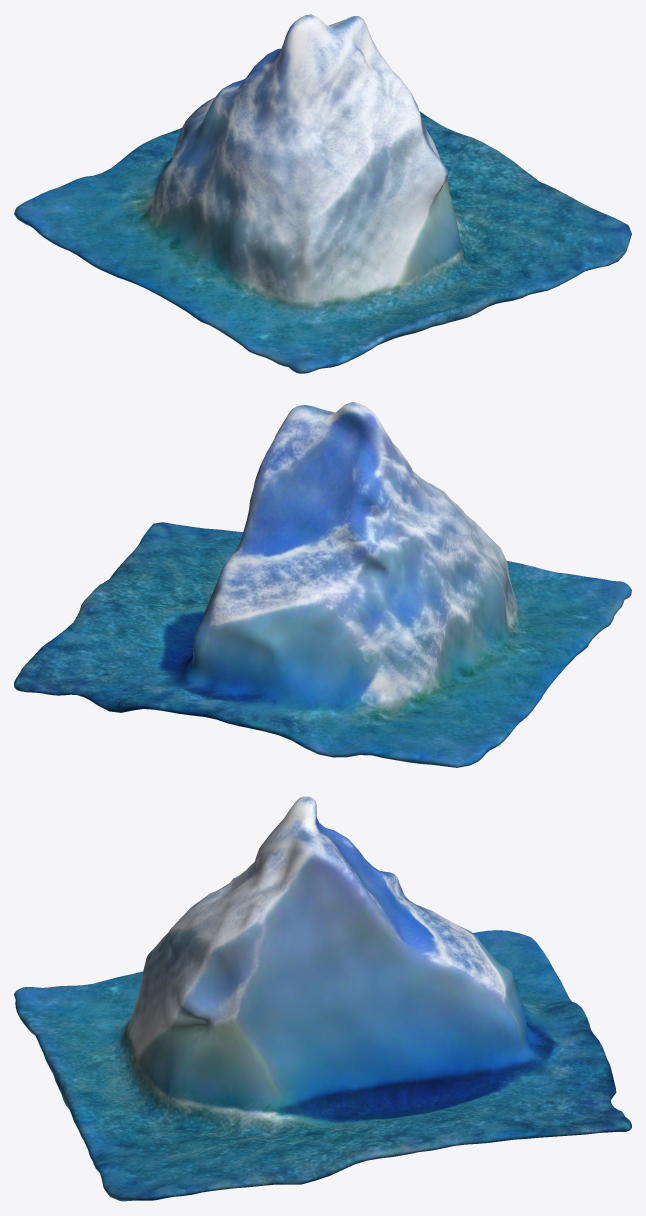
File: Iceberg.fbx
3 renders of one model, top to bottom at view 1: azimuth 30°, elevation 25°; view 2: azimuth 150°, elevation 25°; view 3: azimuth 270°, elevation 25°, orthographic. The views are drawn at different scales.
Visible parts, largest first — view 1: mesh; view 2: mesh; view 3: mesh.
Part boxes in pixels (left/top/right/bottom): mesh: left=14, top=14, right=631, bottom=373; mesh: left=14, top=402, right=631, bottom=767; mesh: left=14, top=796, right=631, bottom=1201.
Bounding box in the file's own units: 97.71 × 49.42 × 99.42.
Materials: 1 (1 with a texture image).
